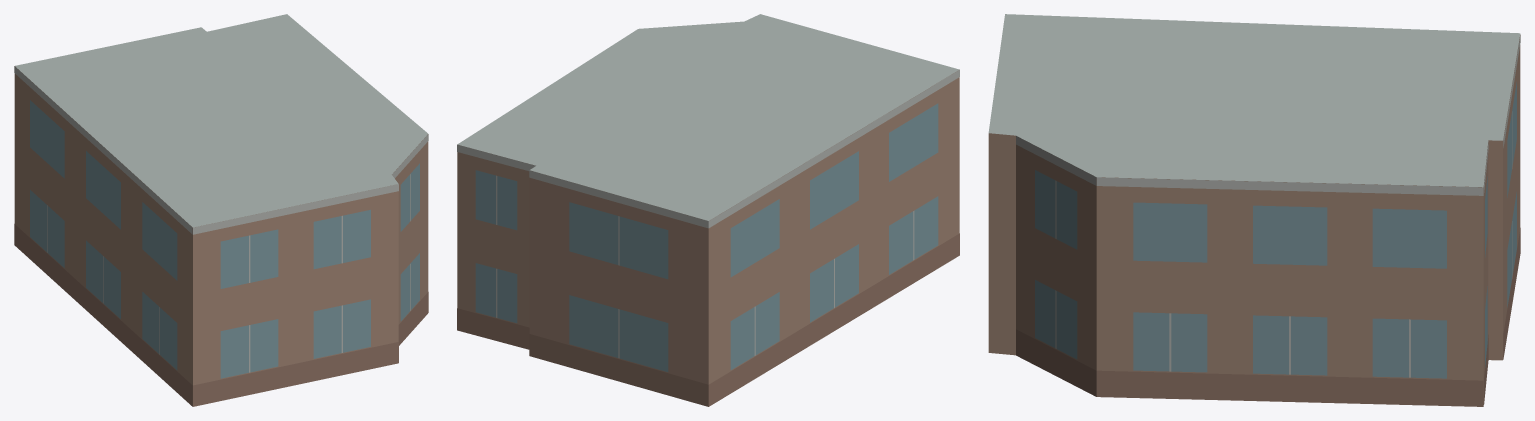
File: survey-upis-33017707.glb
3 renders of one model, left to right at view 1: azimuth 30°, elevation 25°; view 2: azimuth 150°, elevation 25°; view 3: azimuth 270°, elevation 25°, orthographic. The views are drawn at different scales.
Visible parts, largest first — view 1: survey-upis-33017707.tmp; view 2: survey-upis-33017707.tmp; view 3: survey-upis-33017707.tmp.
Boxes of the visible parts, x1=… form: survey-upis-33017707.tmp: x1=14, y1=14, x2=428, y2=406; survey-upis-33017707.tmp: x1=457, y1=14, x2=959, y2=406; survey-upis-33017707.tmp: x1=988, y1=14, x2=1520, y2=406.
Size of the model in its own units: 10.32 by 6.1 by 13.4.
